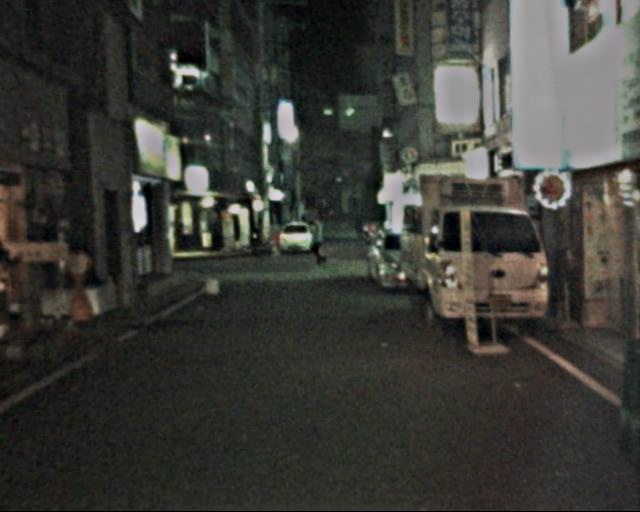person: (303, 214, 331, 271)
